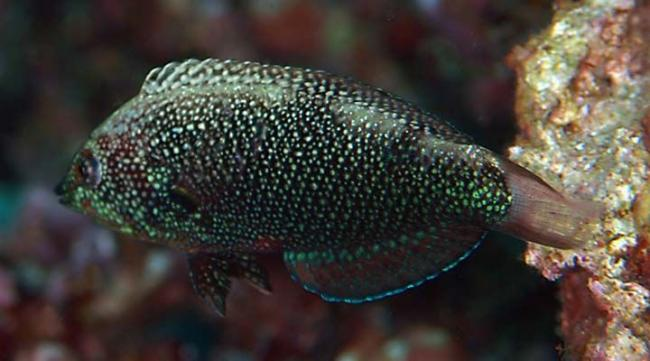fish: (54, 56, 602, 319)
